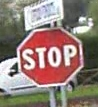stop: (15, 27, 82, 86)
